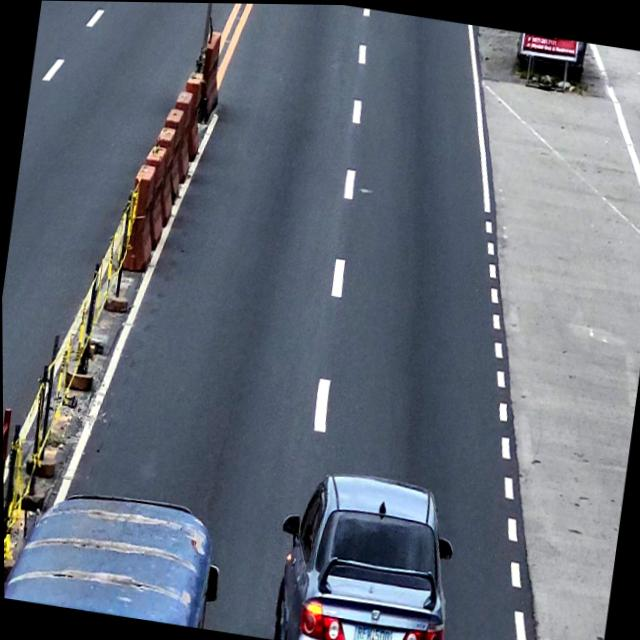Car: (266, 462, 467, 640)
License-Plate: (352, 622, 392, 640)
